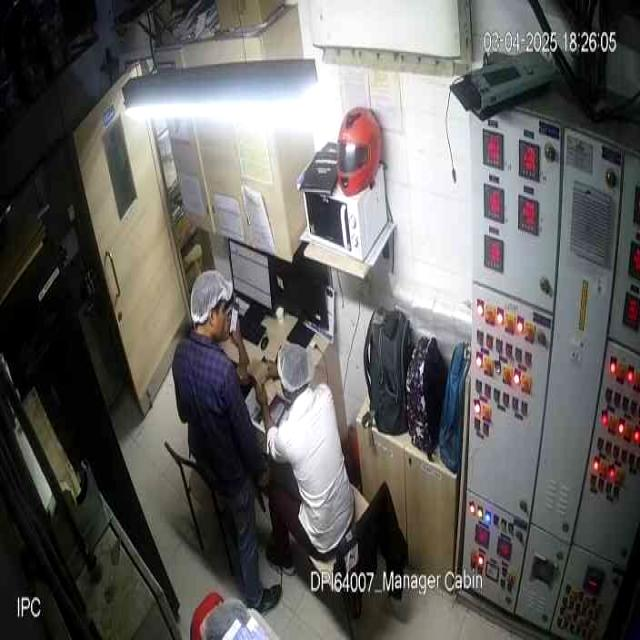helmet: (336, 105, 381, 196)
no_helmet: (190, 269, 232, 339), (276, 342, 315, 400)
